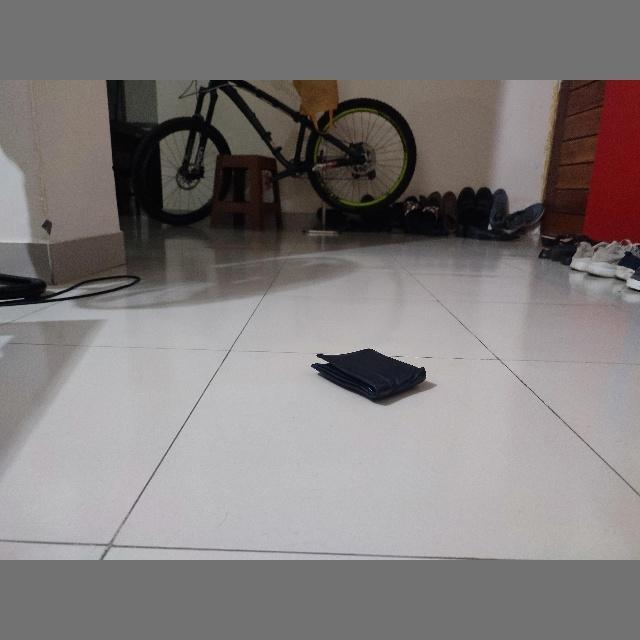Wallet: (312, 348, 426, 404)
